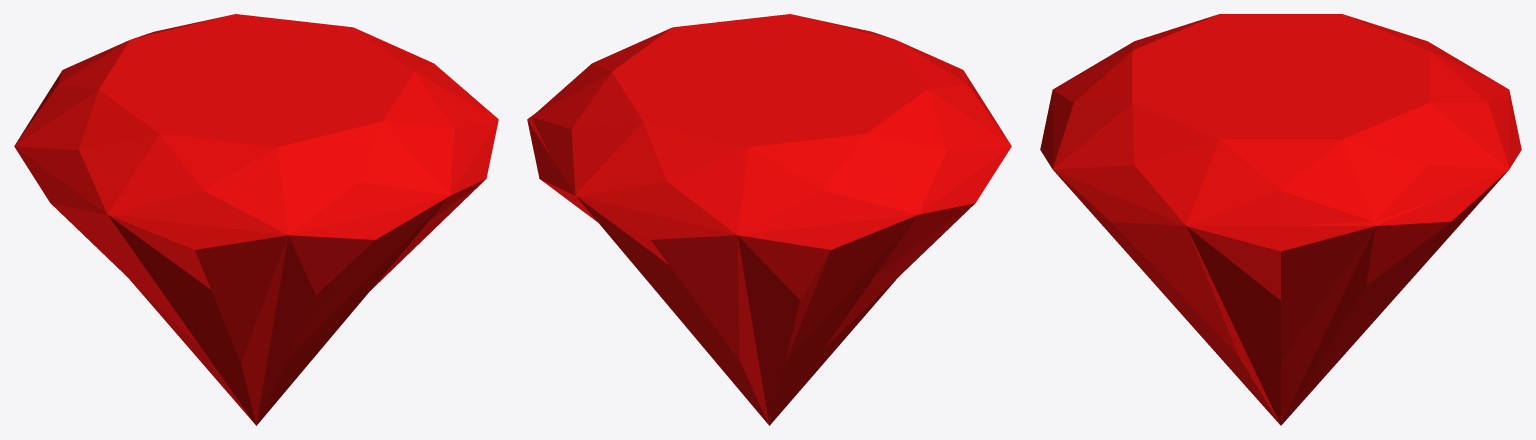
The model's file is Diamond.FBX.
3 views of the same model, side by side, from view 1: azimuth 30°, elevation 25°; view 2: azimuth 150°, elevation 25°; view 3: azimuth 270°, elevation 25° (orthographic).
Visible parts, largest first — view 1: Diamond; view 2: Diamond; view 3: Diamond.
Part boxes in pixels (x1,y1,x2,y2): Diamond: (14,14,498,425); Diamond: (527,14,1011,425); Diamond: (1040,14,1521,425).
Bounding box in the file's own units: 3.31 × 2.65 × 3.31.
